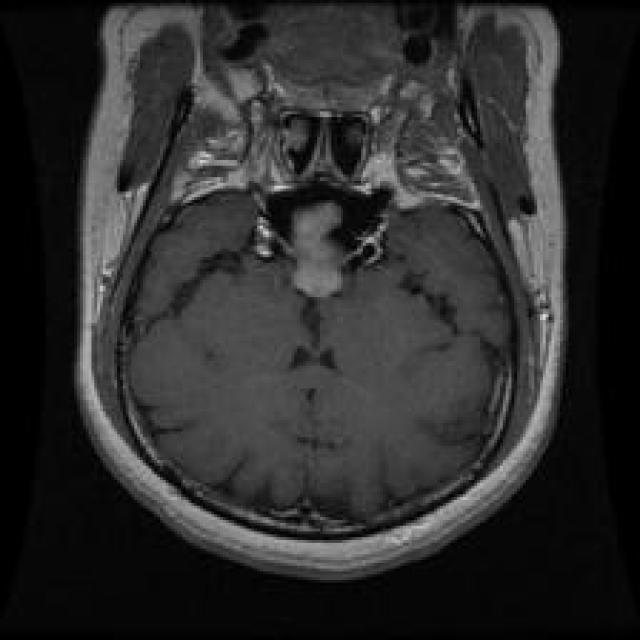pituitary_tumor: (270, 192, 366, 326)
